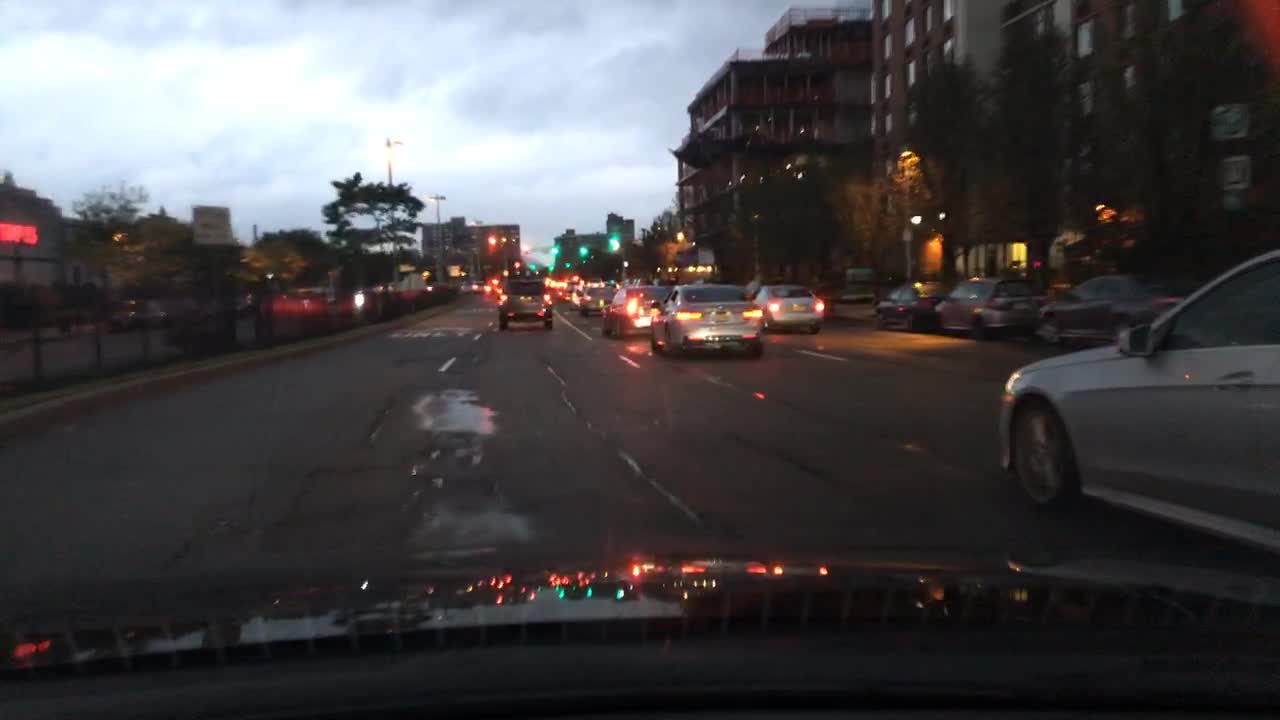car: (993, 248, 1278, 573), (1036, 270, 1200, 349), (651, 282, 767, 361), (931, 271, 1043, 336), (599, 282, 684, 340), (872, 276, 956, 329), (751, 284, 824, 337), (496, 278, 554, 329), (107, 293, 169, 330), (578, 279, 621, 317), (742, 279, 788, 301), (568, 279, 600, 308), (559, 279, 579, 297), (546, 278, 561, 296), (470, 278, 488, 292)
traffic light: (608, 235, 617, 248), (488, 235, 496, 248), (580, 244, 587, 254), (551, 241, 556, 253), (548, 260, 554, 270), (530, 261, 534, 272), (566, 258, 569, 270)
traffic sign: (191, 206, 231, 246)
